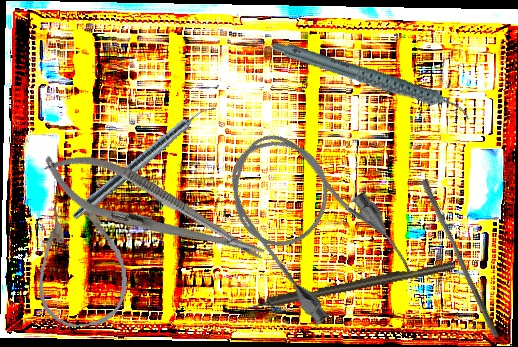Cannula: (202, 106, 422, 338), (30, 199, 132, 331)
Handpiece: (270, 3, 473, 159), (69, 97, 218, 225)
Hook Surgical: (235, 260, 456, 314)
Needle Holder: (33, 136, 274, 283)
Pusher: (415, 178, 506, 339)
